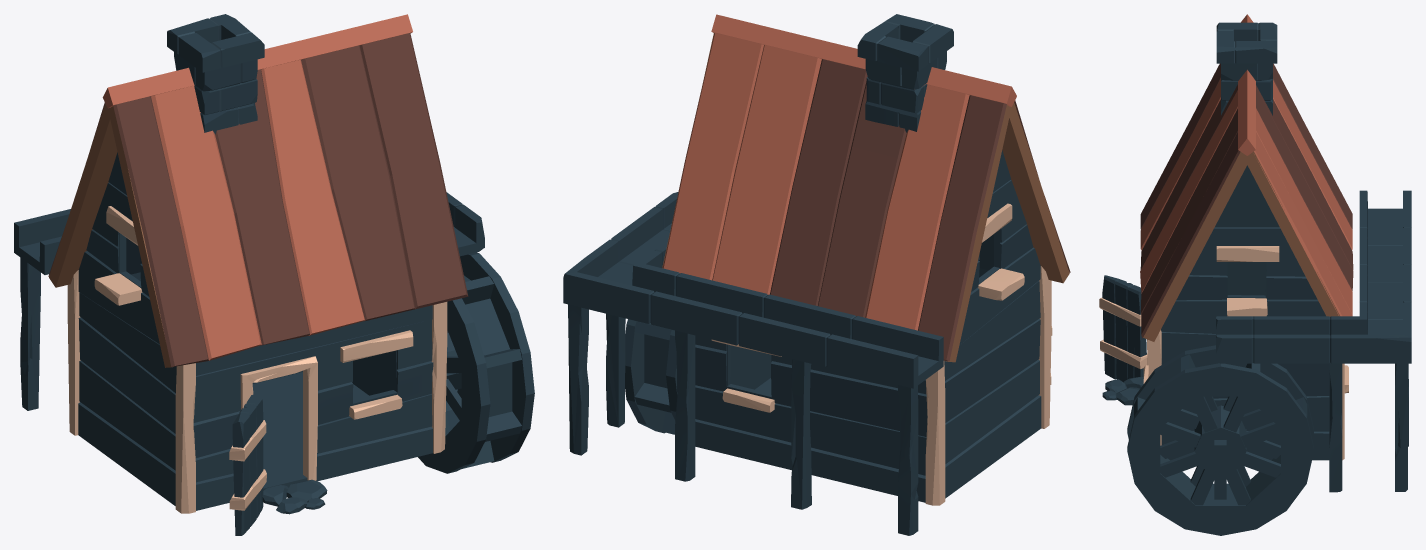
File: Watermill.fbx
3 renders of one model, left to right at view 1: azimuth 30°, elevation 25°; view 2: azimuth 150°, elevation 25°; view 3: azimuth 270°, elevation 25°, orthographic. The views are drawn at different scales.
Parts seen in each view (by area): view 1: Watermill, Watermill_wheel, Watermill_doors; view 2: Watermill, Watermill_wheel; view 3: Watermill, Watermill_wheel, Watermill_doors.
Part boxes in pixels (x1,y1,x2,y2): Watermill: [14, 14, 484, 514]; Watermill_wheel: [418, 252, 534, 473]; Watermill_doors: [229, 394, 266, 535]; Watermill: [563, 14, 1070, 535]; Watermill_wheel: [625, 319, 677, 434]; Watermill: [1102, 14, 1411, 492]; Watermill_wheel: [1127, 345, 1313, 535]; Watermill_doors: [1099, 275, 1147, 382].
Size of the model in its own units: 176 by 210 by 150.
